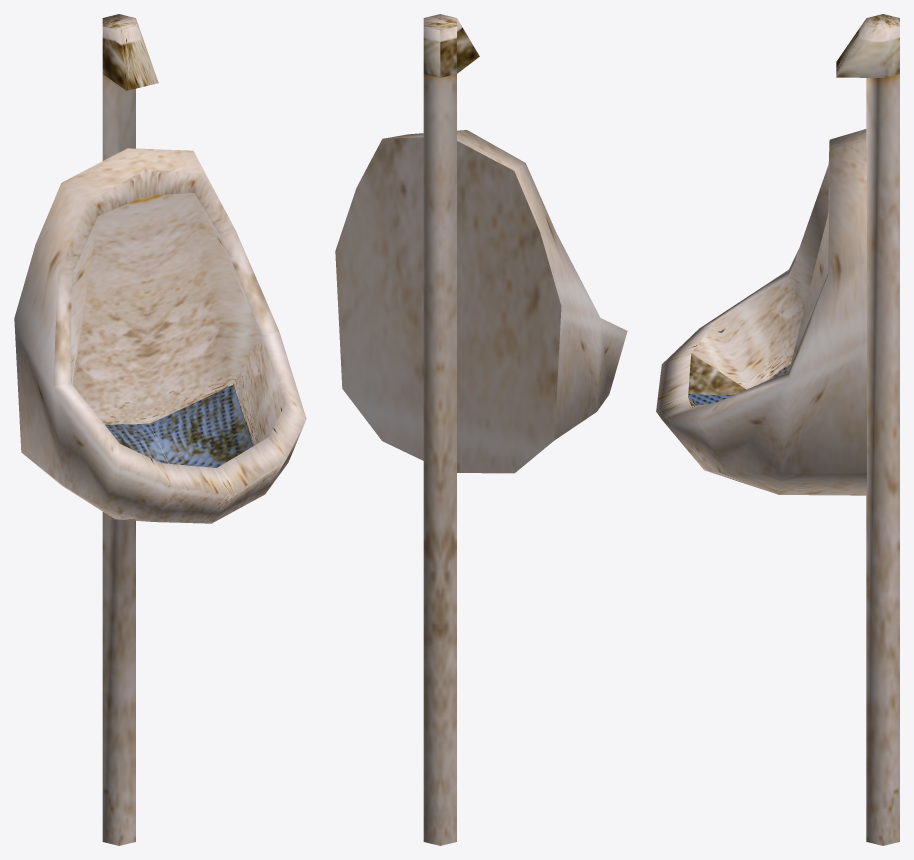
Rendered from M_Home_Garden_hangtoilet2.fbx.
3 renders of one model, left to right at view 1: azimuth 30°, elevation 25°; view 2: azimuth 150°, elevation 25°; view 3: azimuth 270°, elevation 25°, orthographic.
Parts seen in each view (by area): view 1: M_Home_Garden_hangtoilet2; view 2: M_Home_Garden_hangtoilet2; view 3: M_Home_Garden_hangtoilet2.
Part boxes in pixels (x1,y1,x2,y2): M_Home_Garden_hangtoilet2: (14,14,306,845); M_Home_Garden_hangtoilet2: (335,14,627,845); M_Home_Garden_hangtoilet2: (656,14,899,845).
Size of the model in its own units: 44.95 by 155 by 41.98.
